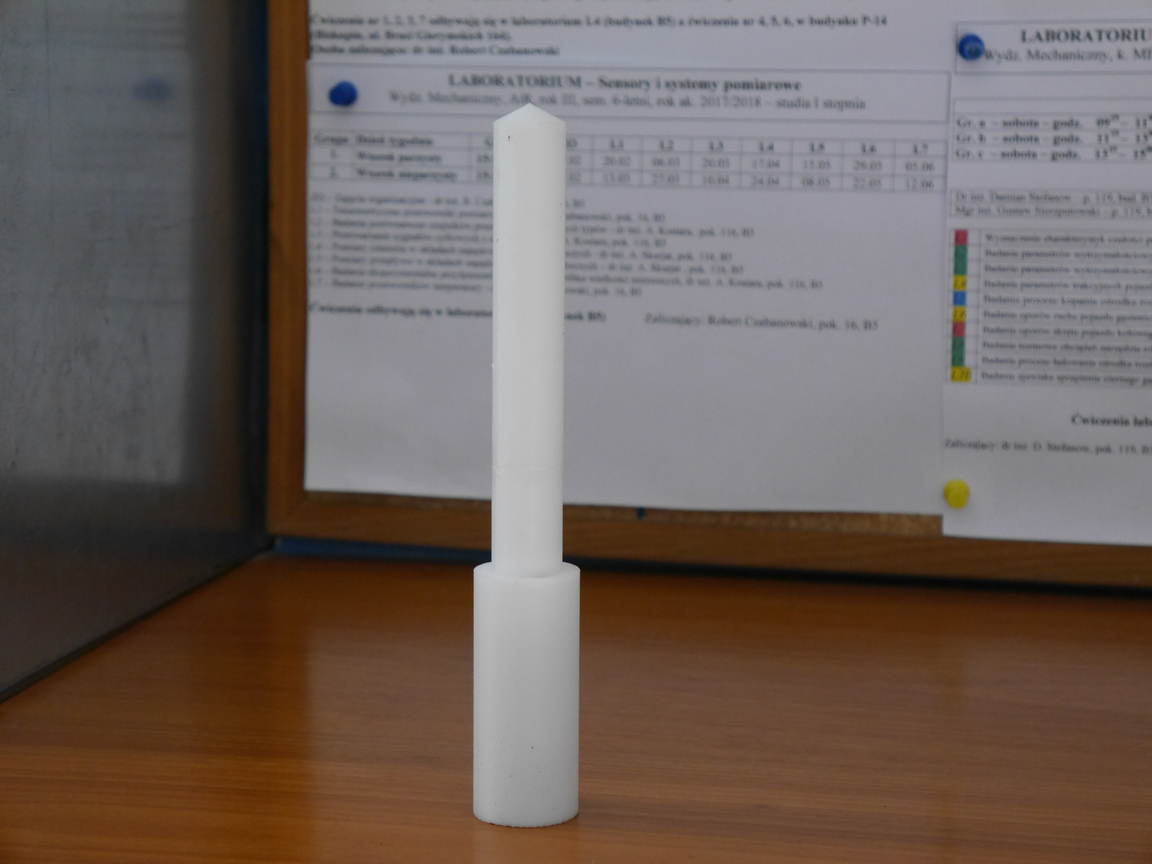cargo_g: (468, 103, 582, 824)
